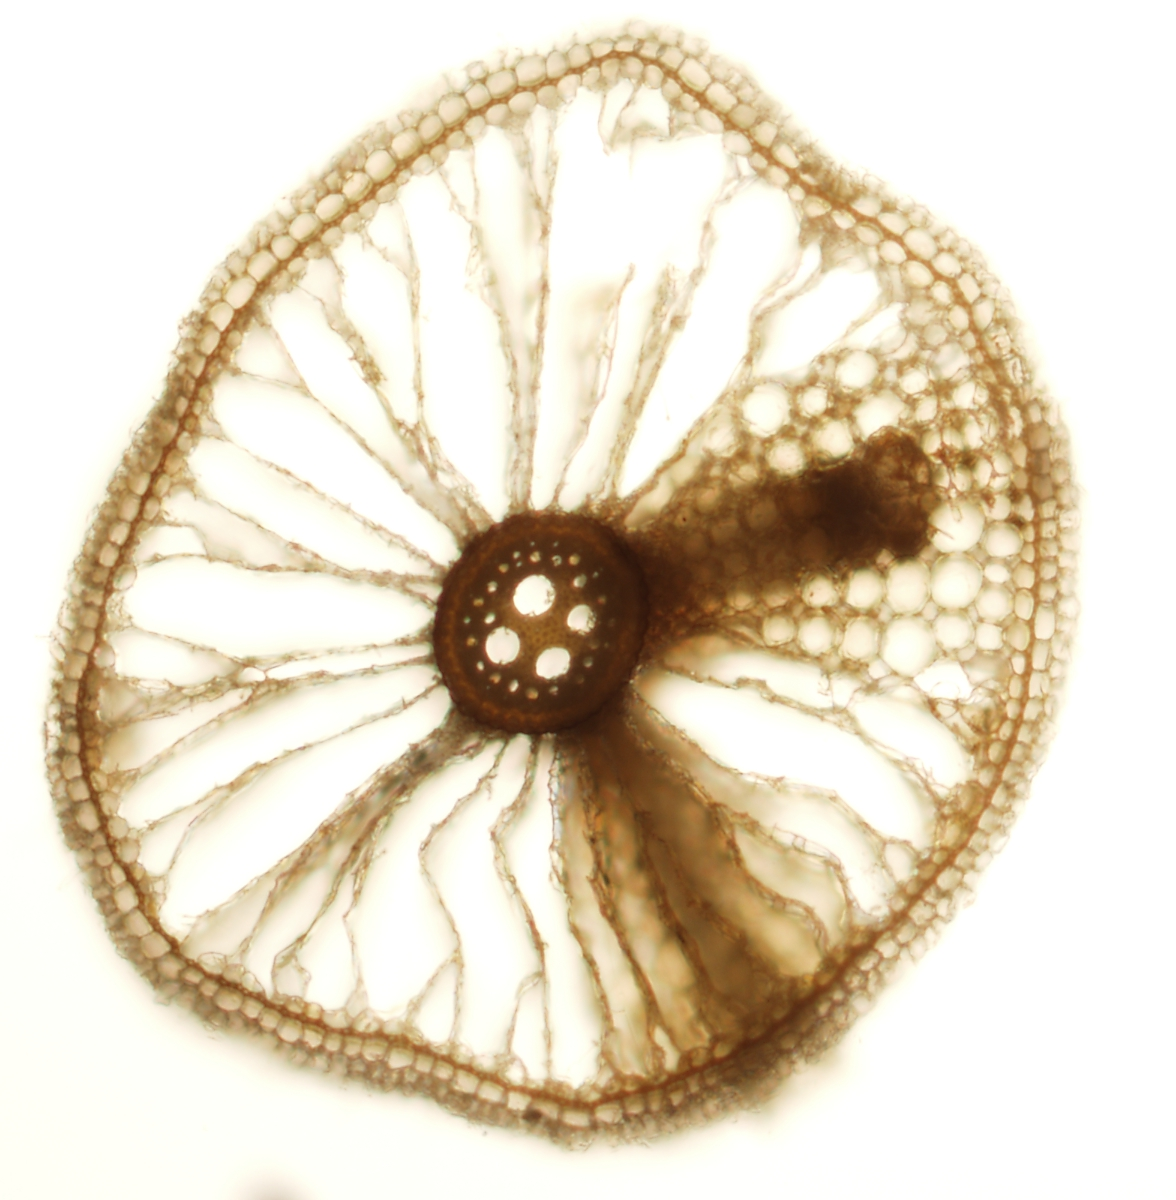lm: (513, 574, 556, 617), (485, 626, 520, 664), (557, 604, 596, 634), (535, 647, 570, 680)
